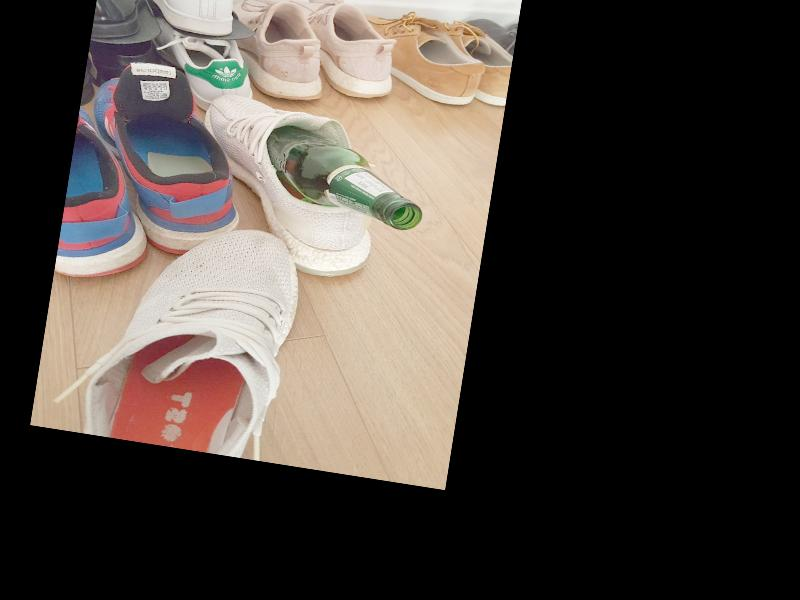Beer: (255, 119, 433, 232)
